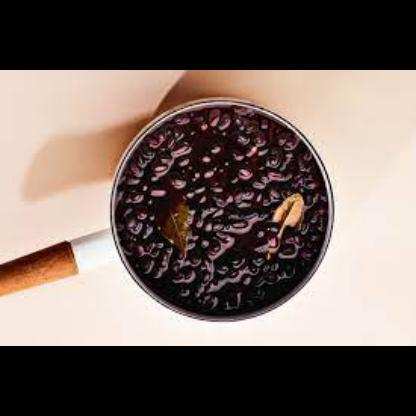black beans: (116, 106, 326, 316)
